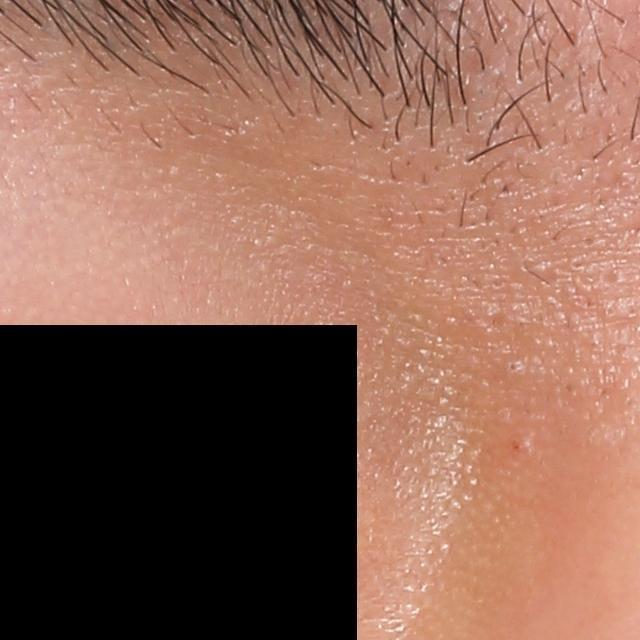comedo: (503, 359, 520, 377)
